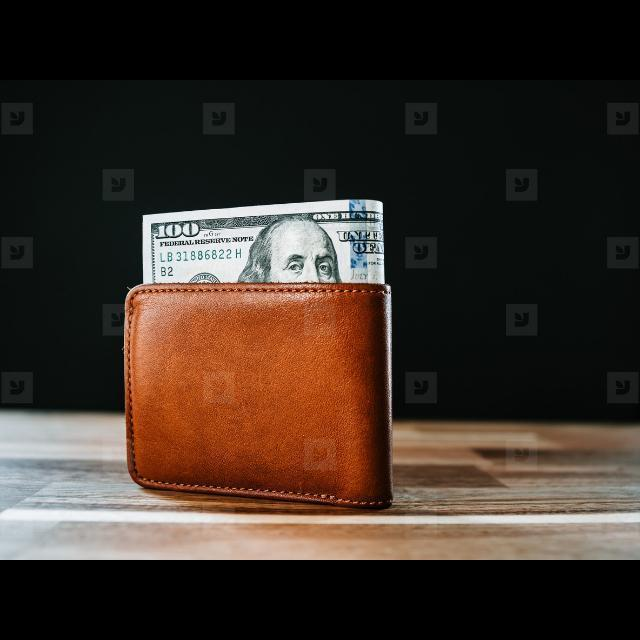wallet: (125, 283, 397, 501)
